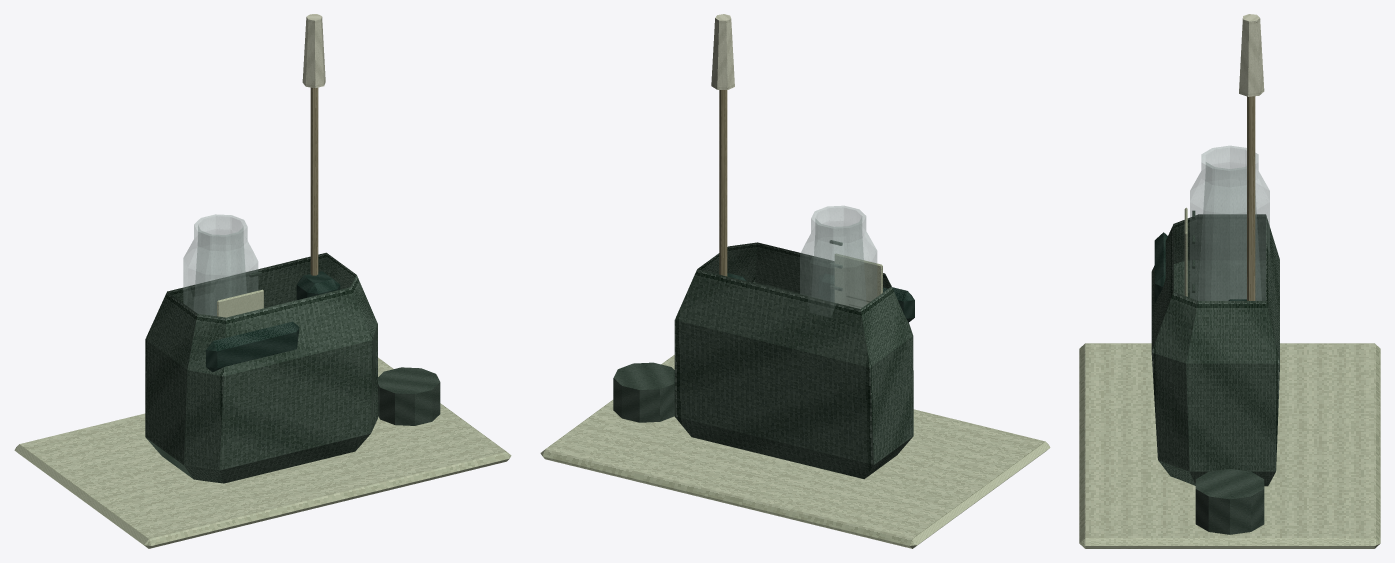
The model's file is blender_ectoplasm_sampler_2_open.glb.
3 renders of one model, left to right at view 1: azimuth 30°, elevation 25°; view 2: azimuth 150°, elevation 25°; view 3: azimuth 270°, elevation 25°, orthographic. The views are drawn at different scales.
Visible parts, largest first — view 1: blender_ectoplasm_sampler_2_open; view 2: blender_ectoplasm_sampler_2_open; view 3: blender_ectoplasm_sampler_2_open.
Boxes of the visible parts, x1,y1,x2,y2 form: blender_ectoplasm_sampler_2_open: (14,14,511,548); blender_ectoplasm_sampler_2_open: (540,14,1050,548); blender_ectoplasm_sampler_2_open: (1079,14,1380,548).
Size of the model in its own units: 0.157 by 0.171 by 0.1.
Materials: 8 (8 with a texture image).
